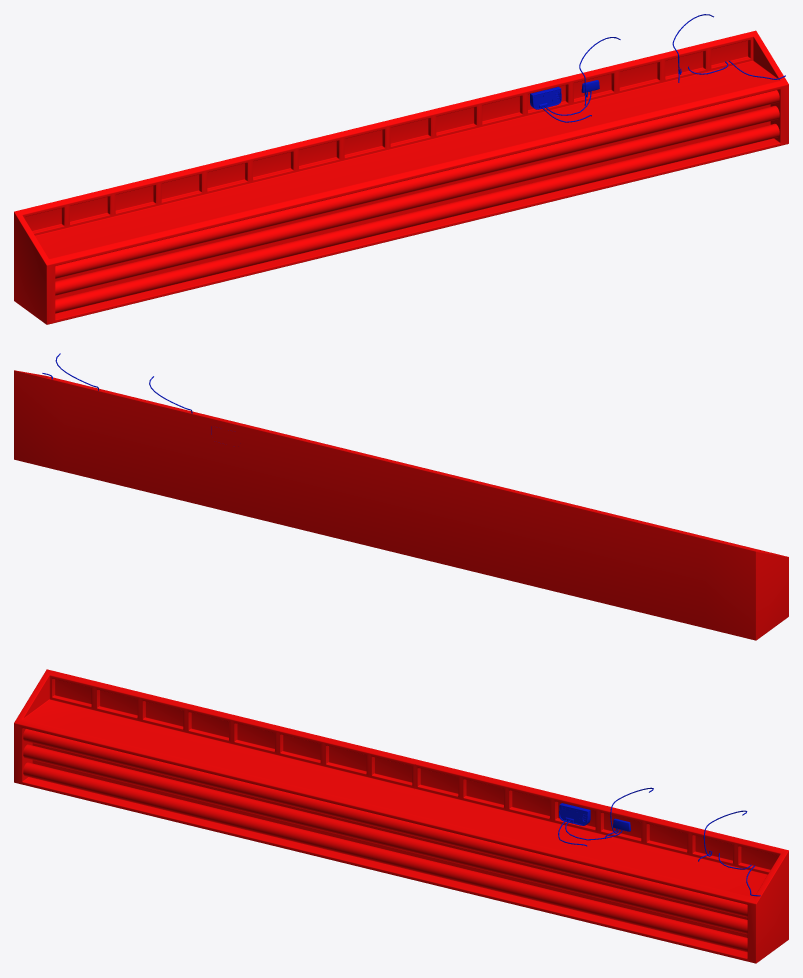
Rendered from ControlPanel.fbx.
3 renders of one model, top to bottom at view 1: azimuth 30°, elevation 25°; view 2: azimuth 150°, elevation 25°; view 3: azimuth 330°, elevation 25°, orthographic.
Parts seen in each view (by area): view 1: ControlPanel, Line001, Hub001; view 2: ControlPanel; view 3: ControlPanel, Line001, Hub001.
Part boxes in pixels (bbox=[...]): ControlPanel: bbox=[14, 30, 788, 324]; Line001: bbox=[541, 14, 785, 122]; Hub001: bbox=[530, 86, 561, 109]; ControlPanel: bbox=[14, 370, 788, 640]; ControlPanel: bbox=[14, 669, 788, 963]; Line001: bbox=[558, 787, 760, 896]; Hub001: bbox=[559, 803, 590, 825].
Size of the model in its own units: 13.01 by 1.24 by 1.94.
